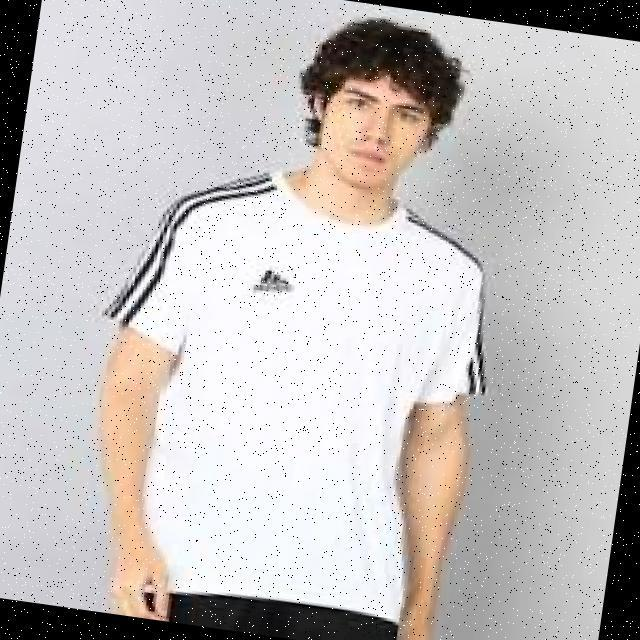Adidas: (253, 263, 299, 300)
